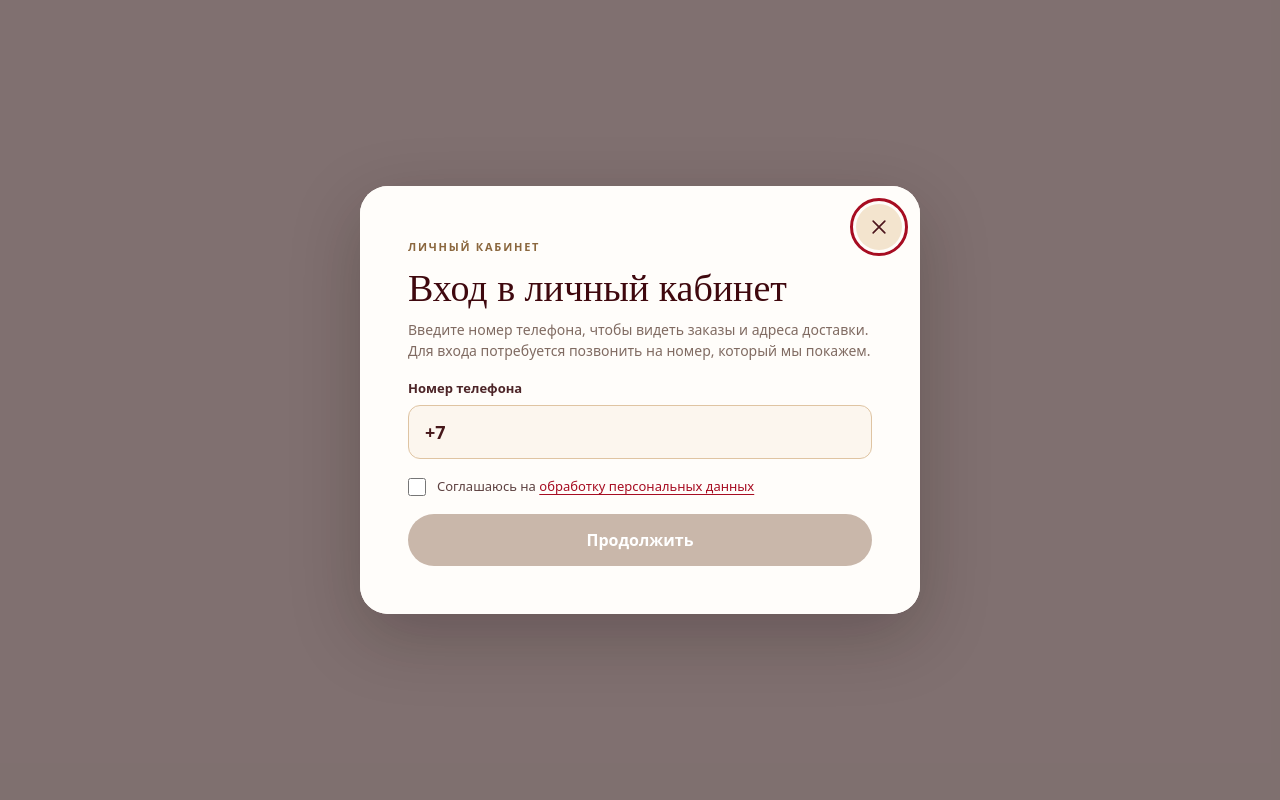
Test case: requires consent and a complete Russian mobile number
Expected: the button "Продолжить" is disabled, [408,514,872,566]
Click the checkbox. click: coordinates (417, 487)
box: [408,478,426,496]
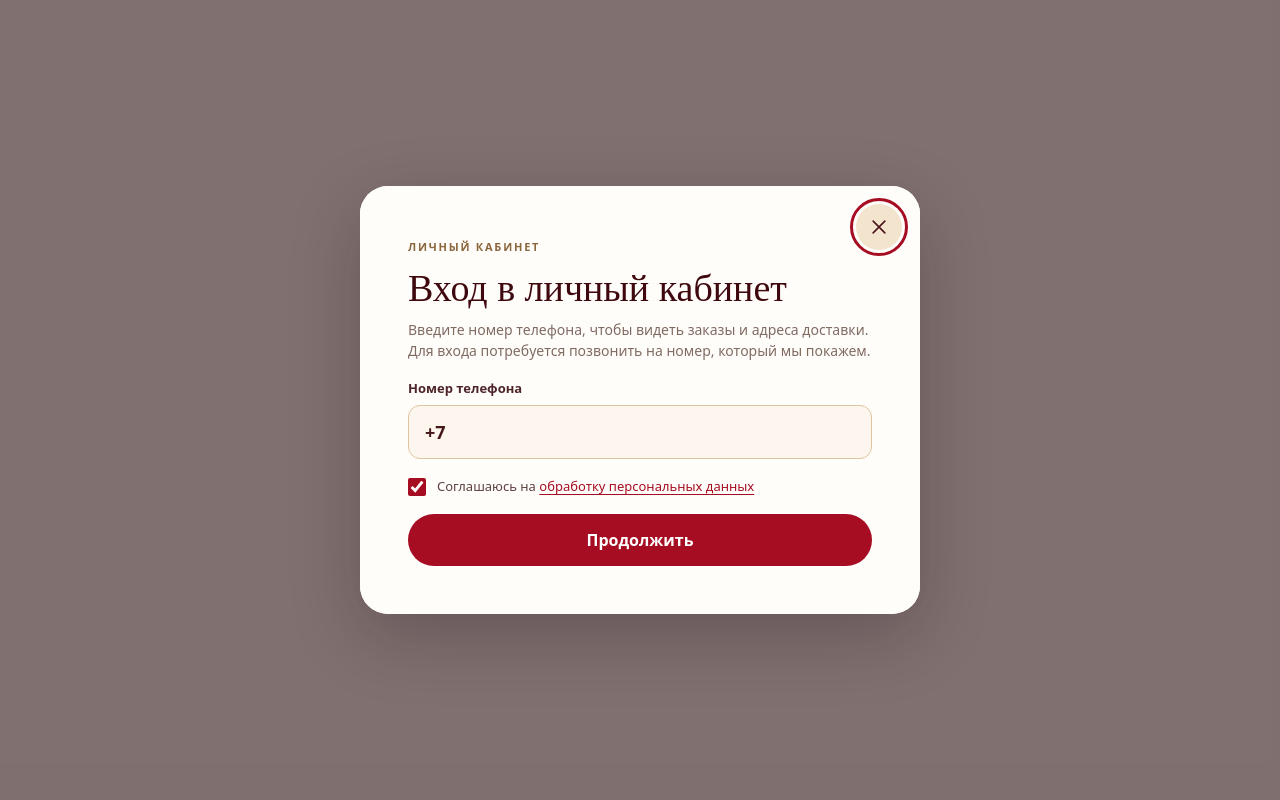
Replace the text in the field with "999123". click: coordinates (640, 432)
box: [408,405,872,459]
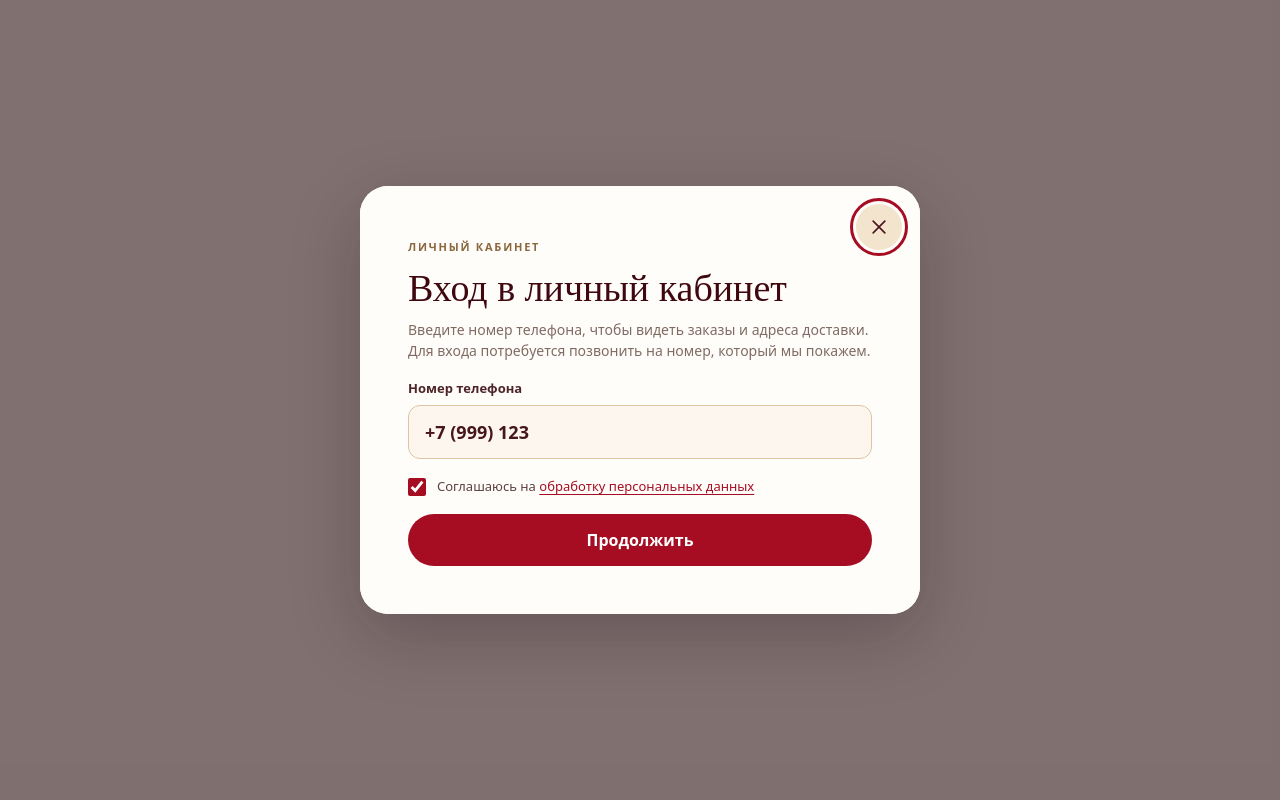
Click the button "Продолжить". click: coordinates (640, 540)
box: [408,514,872,566]
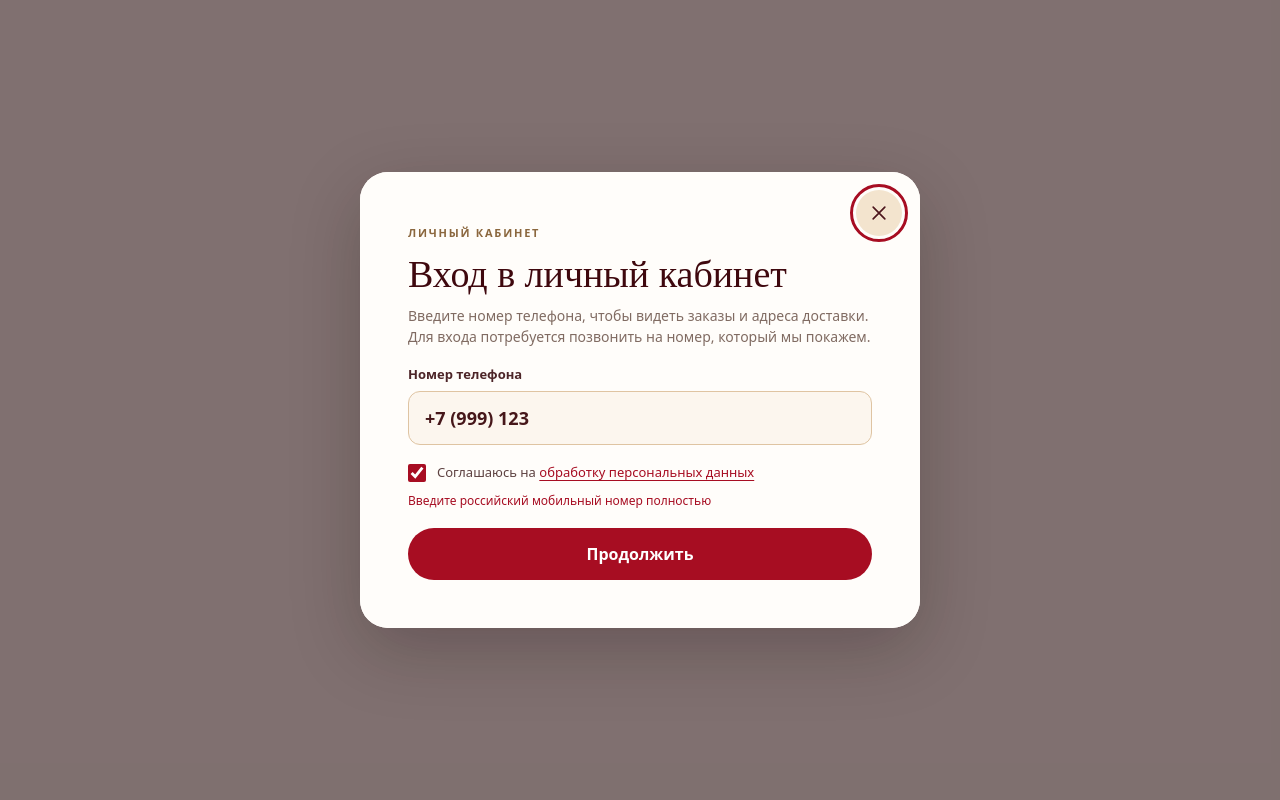
Result: the message shows "полностью" at [408,492,711,509]
